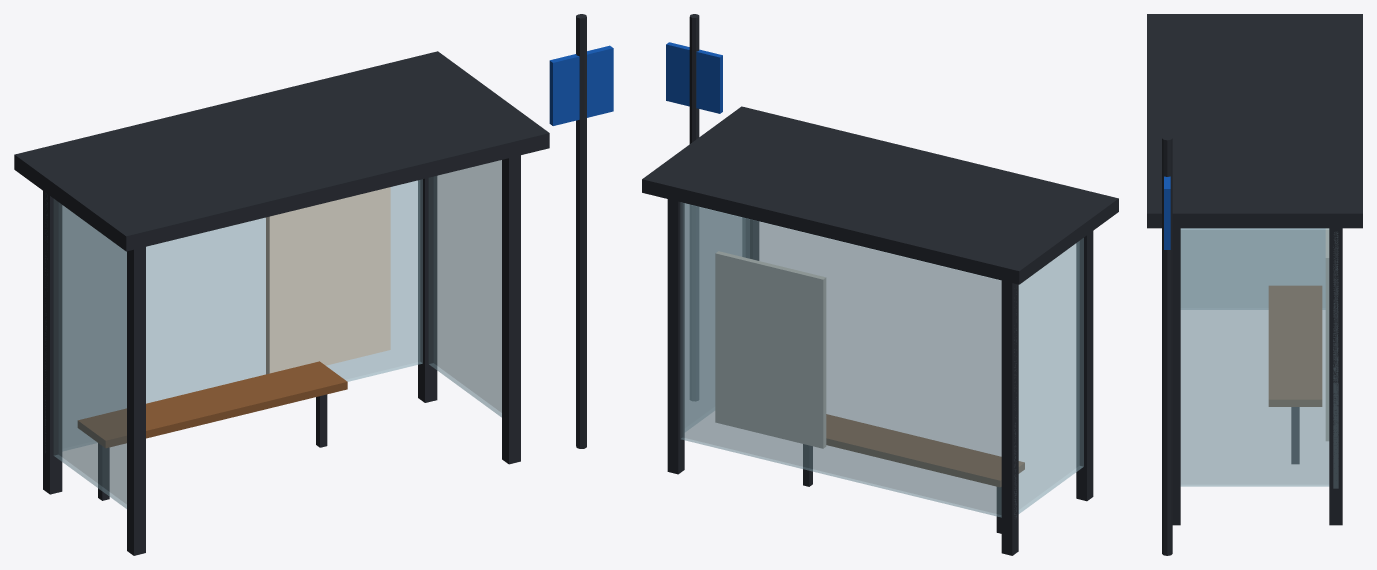
File: busstop.glb
The picture shows the model from 3 angles, left to right: view 1: azimuth 30°, elevation 25°; view 2: azimuth 150°, elevation 25°; view 3: azimuth 270°, elevation 25°; orthographic projection. The views are drawn at different scales.
Visible parts, largest first — view 1: Cube; view 2: Cube; view 3: Cube.
Boxes of the visible parts, x1=… form: Cube: x1=14, y1=14, x2=613, y2=555; Cube: x1=642, y1=14, x2=1118, y2=555; Cube: x1=1147, y1=14, x2=1362, y2=555.
Size of the model in its own units: 4.1 by 3.4 by 1.6.
